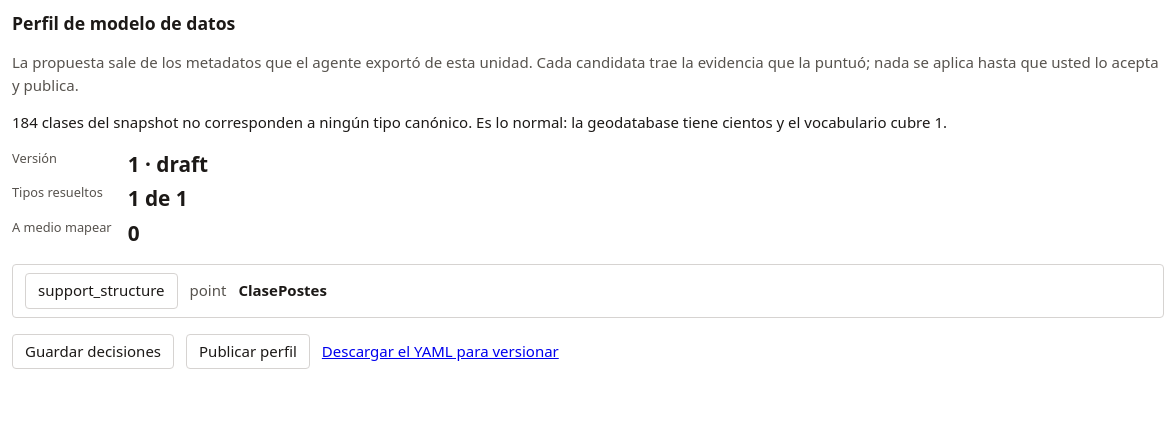
Test: publicar › con el borrador completo, publica y lo dice
Click the button "Publicar perfil". click: click(248, 351)
box: [186,334,310,369]
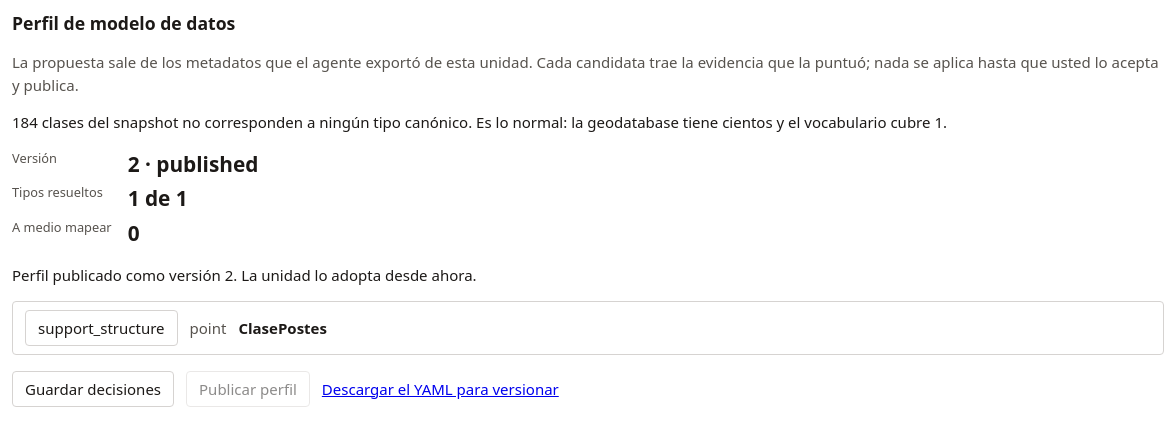
Expected: the text "Perfil publicado como versión 2. La unidad lo adopta desde ahora." is shown, [12,265,477,285]
